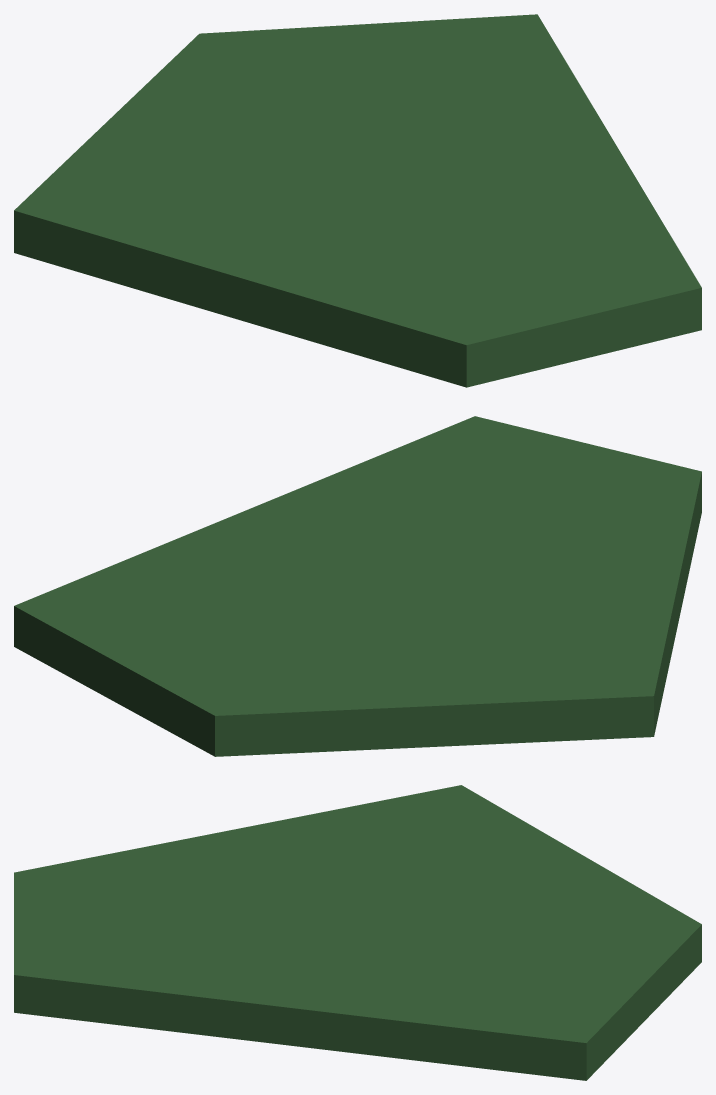
Rendered from x_proval_00_96_1_rmstrd.fbx.
3 renders of one model, top to bottom at view 1: azimuth 30°, elevation 25°; view 2: azimuth 150°, elevation 25°; view 3: azimuth 270°, elevation 25°, orthographic. The views are drawn at different scales.
Visible parts, largest first — view 1: x_proval_00_96_1_rmstrd1; view 2: x_proval_00_96_1_rmstrd1; view 3: x_proval_00_96_1_rmstrd1.
Part boxes in pixels (x1,y1,x2,y2): x_proval_00_96_1_rmstrd1: (14,14,701,387); x_proval_00_96_1_rmstrd1: (14,416,701,756); x_proval_00_96_1_rmstrd1: (14,785,701,1080).
Bounding box in the file's own units: 2.93 × 0.2 × 3.3.
